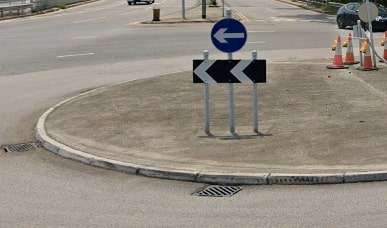Turn Left: (209, 14, 247, 53)
Turn Left(quick): (188, 56, 271, 89)
